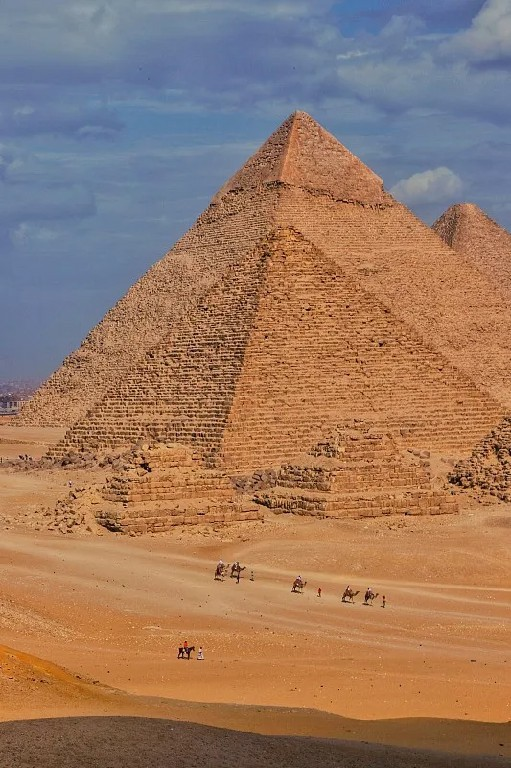Pyramid: (17, 110, 511, 424), (44, 227, 511, 468), (265, 429, 459, 517), (69, 446, 264, 529), (431, 202, 511, 309)
